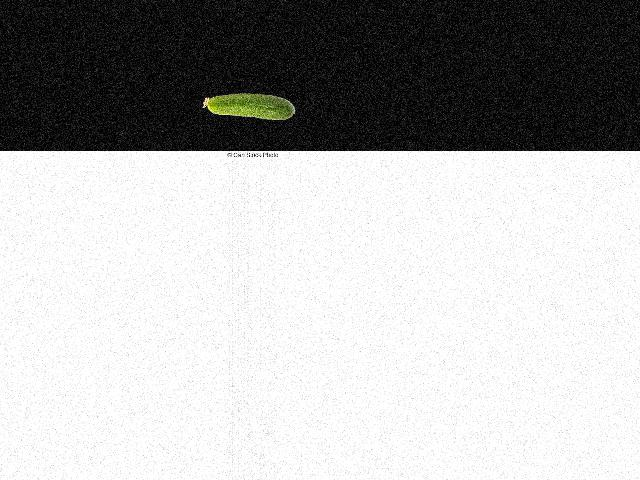cucumber: (203, 93, 295, 120)
